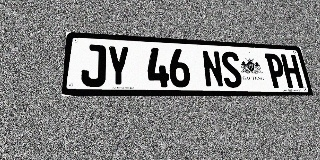4: (147, 47, 170, 87)
6: (168, 48, 191, 87)
H: (280, 54, 304, 88)
J: (80, 44, 106, 87)
N: (201, 50, 225, 88)
P: (264, 53, 288, 88)
S: (220, 51, 243, 88)
Y: (106, 45, 130, 87)
